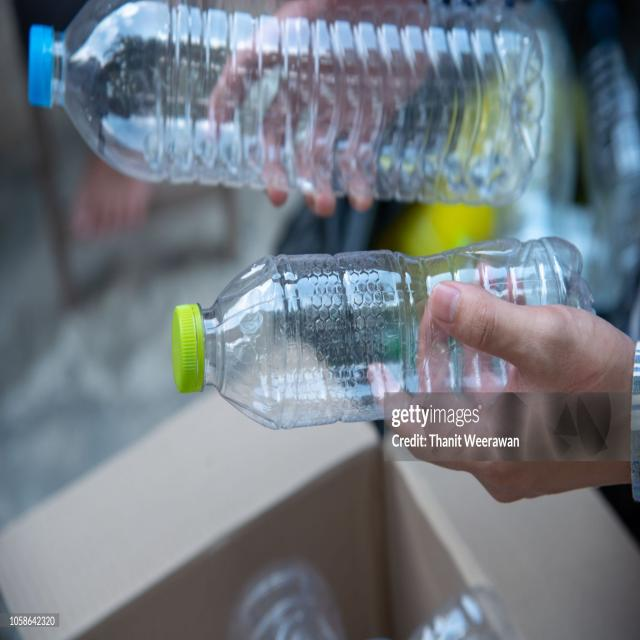bottle: (25, 2, 548, 212), (170, 234, 596, 434)
